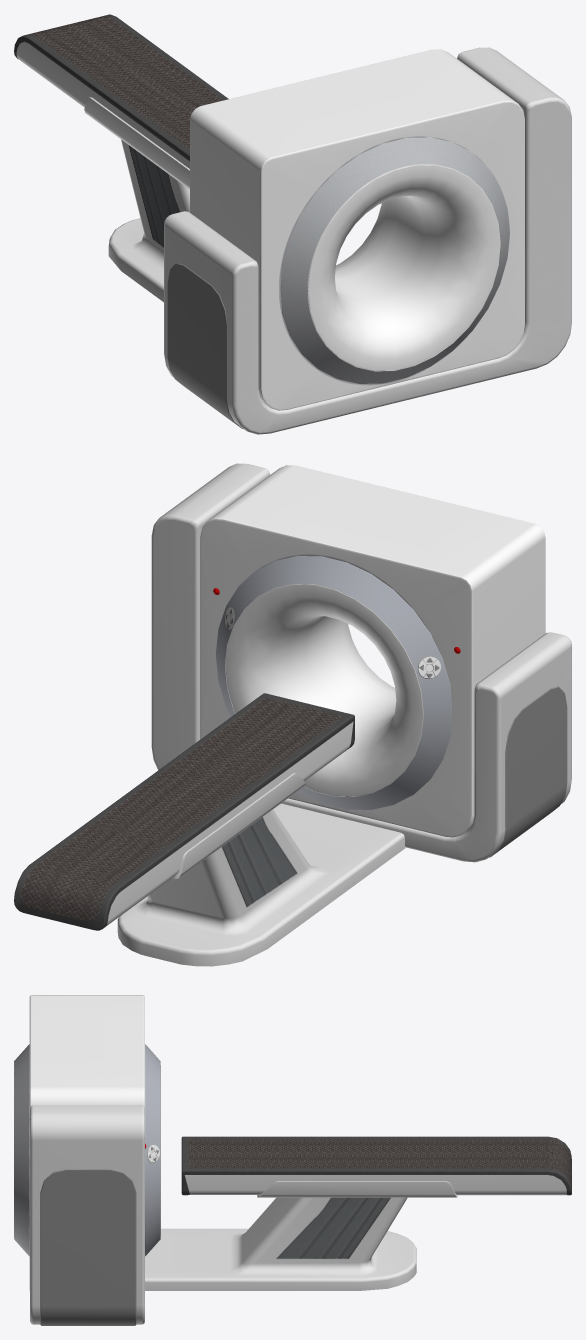
The model's file is CT SCANNER.glb.
3 renders of one model, top to bottom at view 1: azimuth 30°, elevation 25°; view 2: azimuth 150°, elevation 25°; view 3: azimuth 270°, elevation 25°, orthographic. The views are drawn at different scales.
Parts seen in each view (by area): view 1: mission, frame, table, groun, lock; view 2: mission, frame, table, groun, lock; view 3: frame, groun, table, mission, lock.
Boxes of the visible parts, bbox=[...] form: mission: bbox=[190, 49, 524, 410]; frame: bbox=[164, 47, 571, 434]; table: bbox=[14, 14, 228, 168]; groun: bbox=[108, 139, 189, 302]; lock: bbox=[84, 97, 189, 189]; mission: bbox=[200, 465, 545, 837]; frame: bbox=[151, 463, 571, 862]; table: bbox=[14, 693, 354, 930]; groun: bbox=[117, 803, 405, 966]; lock: bbox=[171, 773, 305, 879]; frame: bbox=[30, 1105, 144, 1325]; groun: bbox=[145, 1197, 416, 1290]; table: bbox=[181, 1136, 571, 1195]; mission: bbox=[14, 995, 160, 1290]; lock: bbox=[257, 1181, 457, 1197].
Bounding box in the file's own units: 0.0844 × 0.0658 × 0.1492.
6 materials, 5 textured.
